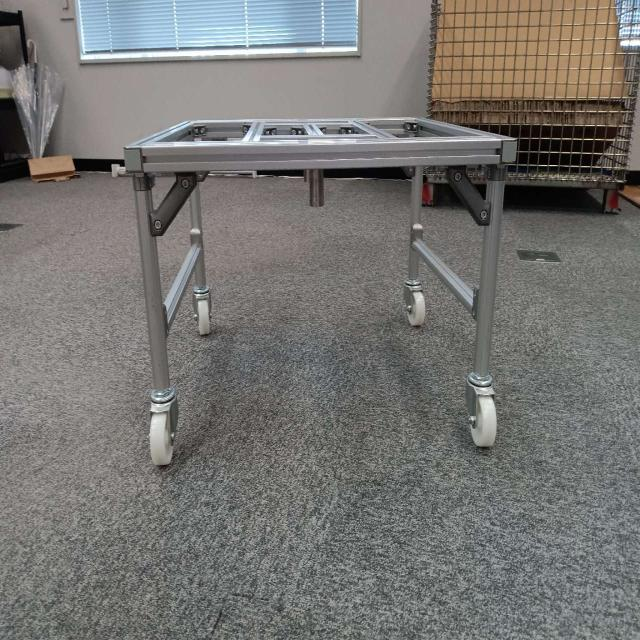door: (127, 141, 504, 236)
